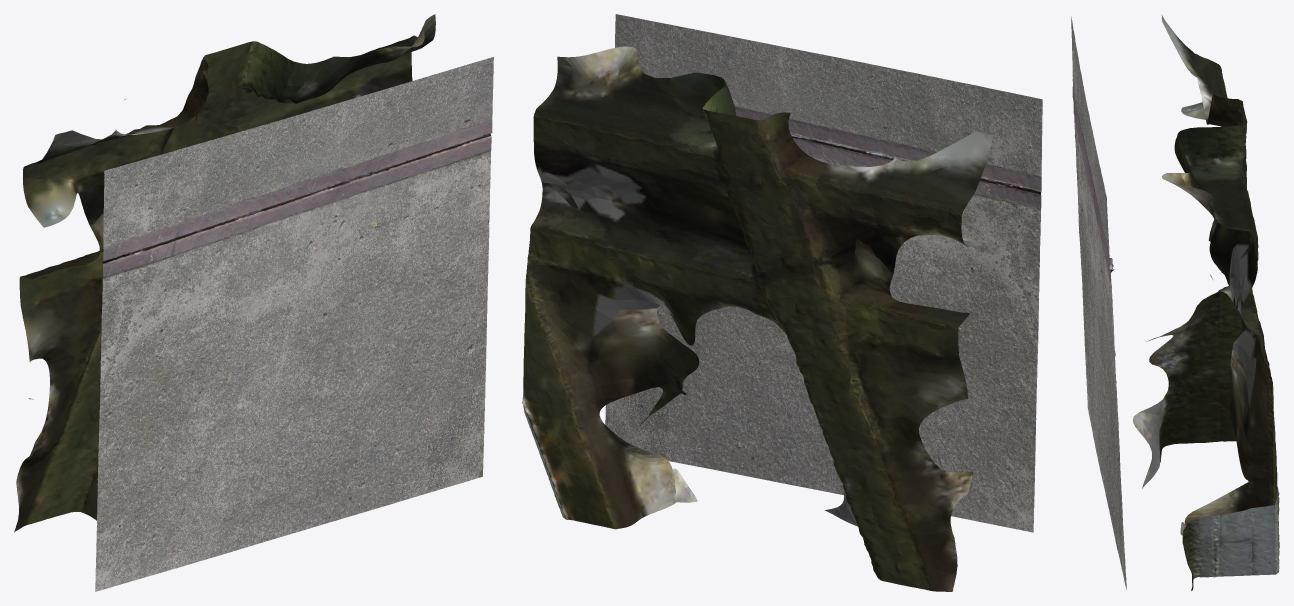
Rendered from Tile_+006_+007.fbx.
3 renders of one model, left to right at view 1: azimuth 30°, elevation 25°; view 2: azimuth 150°, elevation 25°; view 3: azimuth 270°, elevation 25°, orthographic. The views are drawn at different scales.
Parts seen in each view (by area): view 1: Tile_+006_+007_LOD0; view 2: Tile_+006_+007_LOD0; view 3: Tile_+006_+007_LOD0.
Boxes of the visible parts, bbox=[...] form: Tile_+006_+007_LOD0: bbox=[14, 14, 493, 591]; Tile_+006_+007_LOD0: bbox=[522, 14, 1042, 591]; Tile_+006_+007_LOD0: bbox=[1071, 14, 1279, 590].
Size of what is drawn, in the model's own units: 303 by 303 by 145.
